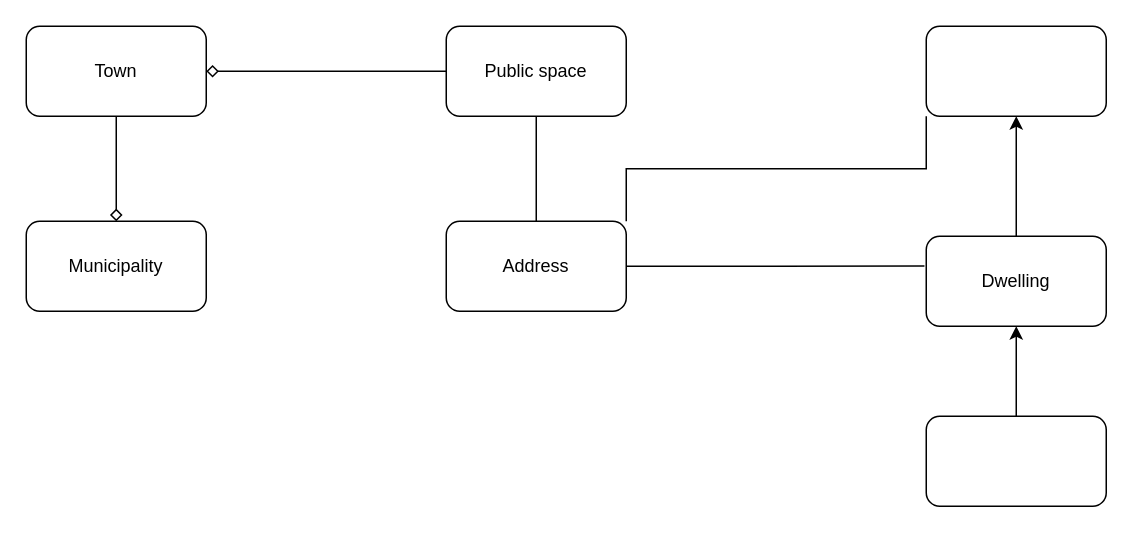
The diagram is 1133 pixels wide and 533 high, and some of its shapes have lost their labels. The centre of each missing label's shape, as x and y in pixels:
Building: pixel 1015 70
Salesprice: pixel 1015 460
